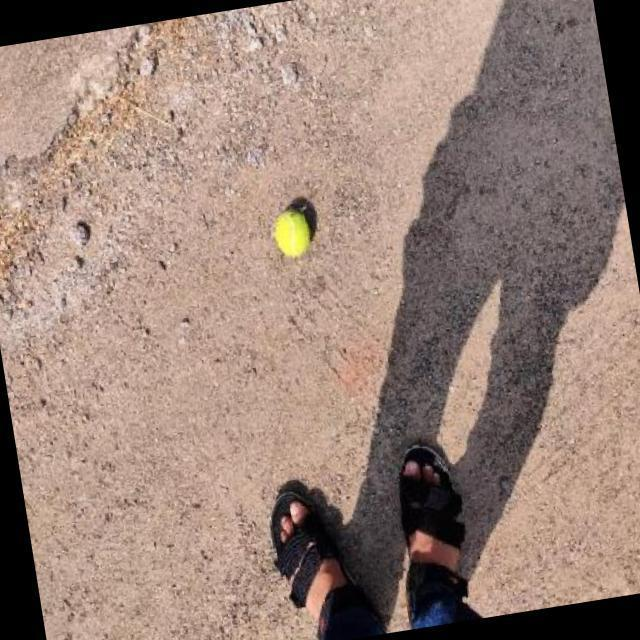-: (269, 204, 318, 270)
